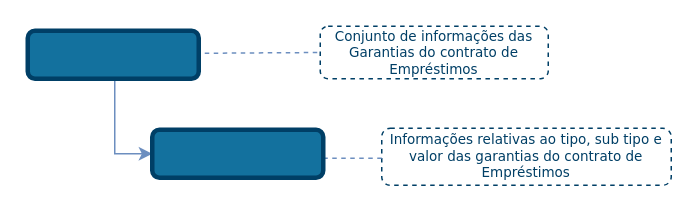
This 698x212 diagram has some shape labels left out. The centre of each missing label's shape, as x and y in pixels:
Data: the point at 112,54
Warranties: the point at 237,153
